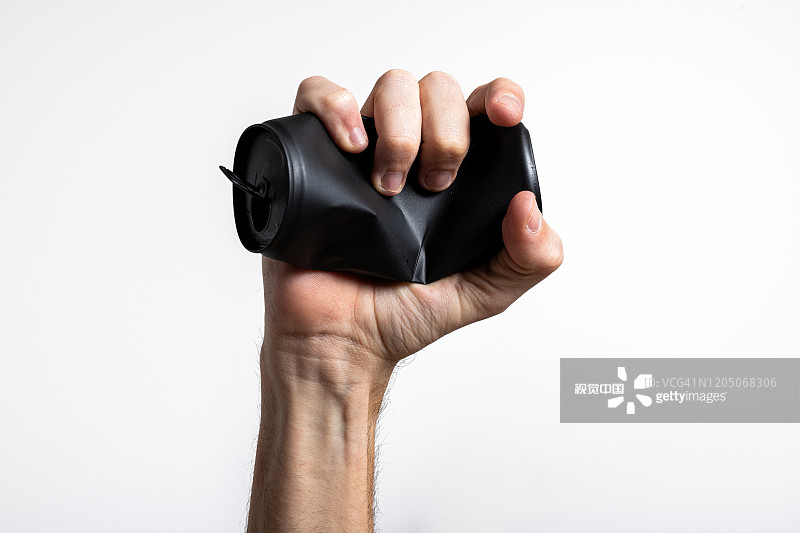no-phone: (209, 43, 568, 398)
